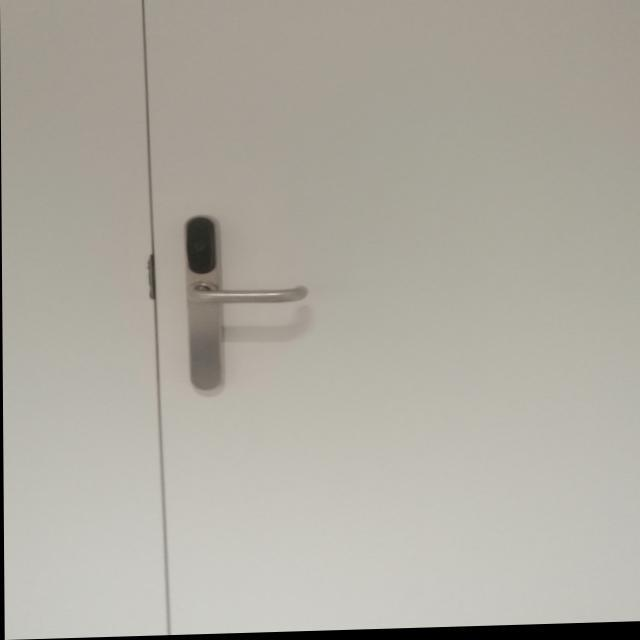door_handle: (179, 280, 312, 310)
